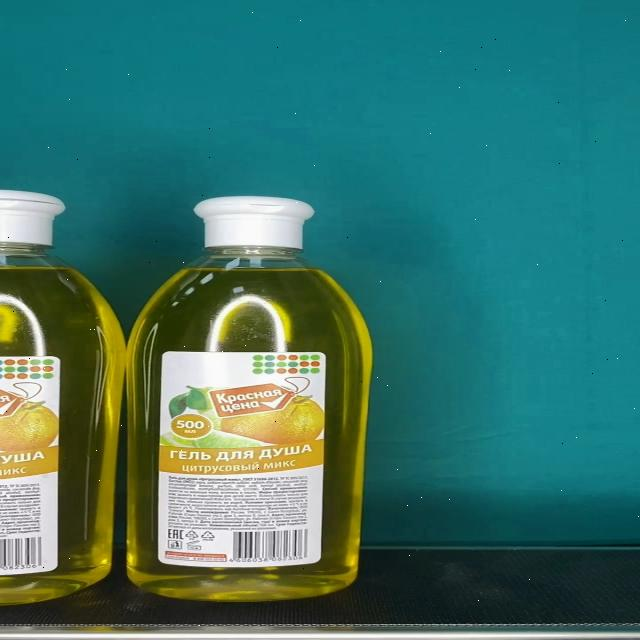Bottle: (123, 194, 377, 602)
Cap: (190, 196, 312, 248)
